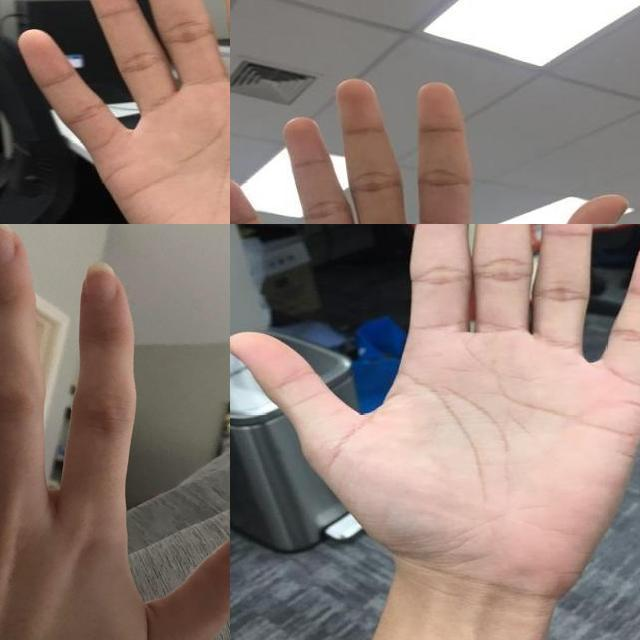no-gloves: (230, 224, 640, 622), (0, 224, 230, 640), (230, 79, 631, 224), (15, 0, 230, 224)
